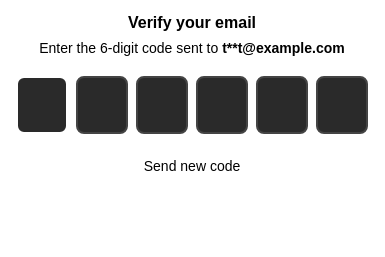
Test: EmailVerification › shows too_many_attempts error on code submit
Type "0" into the field named "Digit 1" at (42, 105), box 16,76 -> 68,134
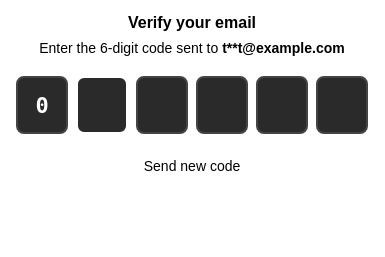
Type "0" into the field named "Digit 2" at (102, 105), box 76,76 -> 128,134
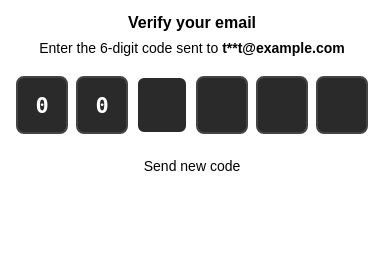
Type "0" into the field named "Digit 3" at (162, 105), box 136,76 -> 188,134
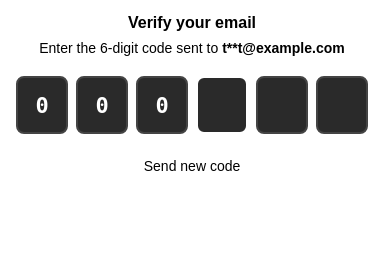
Type "0" into the field named "Digit 4" at (222, 105), box 196,76 -> 248,134
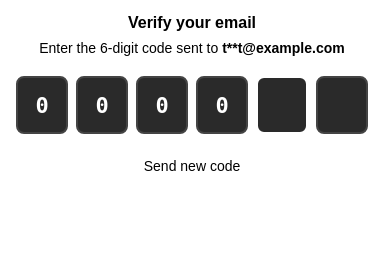
Type "0" into the field named "Digit 5" at (282, 105), box 256,76 -> 308,134
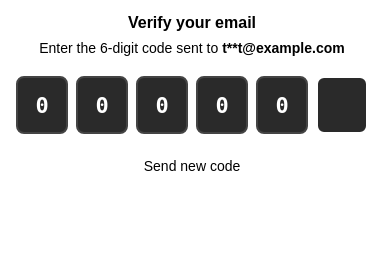
Type "0" into the field named "Digit 6" at (342, 105), box 316,76 -> 368,134
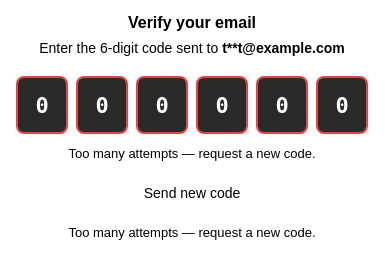
Now the text "Too many attempts — request a new code." is shown, box 68,146 -> 316,161
